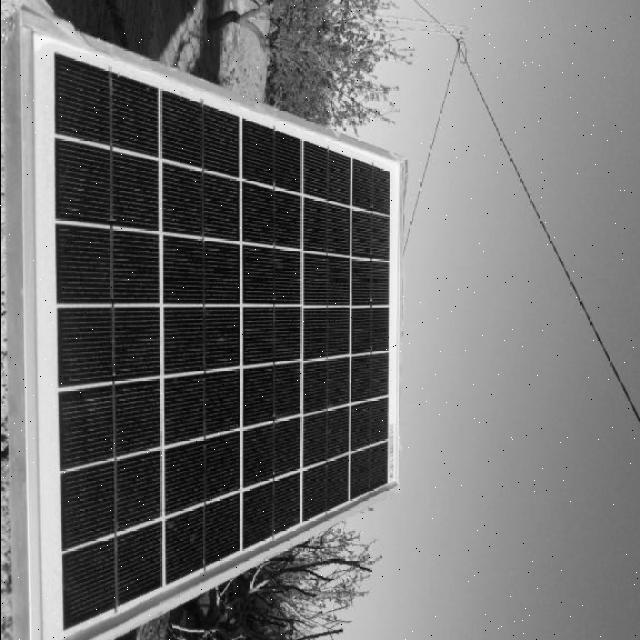Normal Solar Panel: (19, 11, 403, 640)
